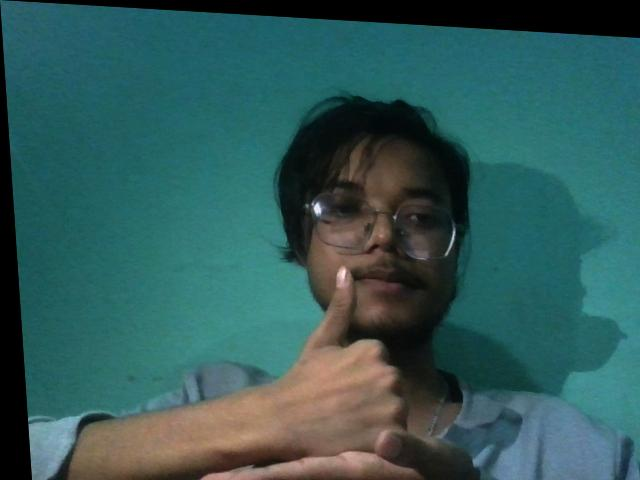help: (137, 251, 522, 480)
